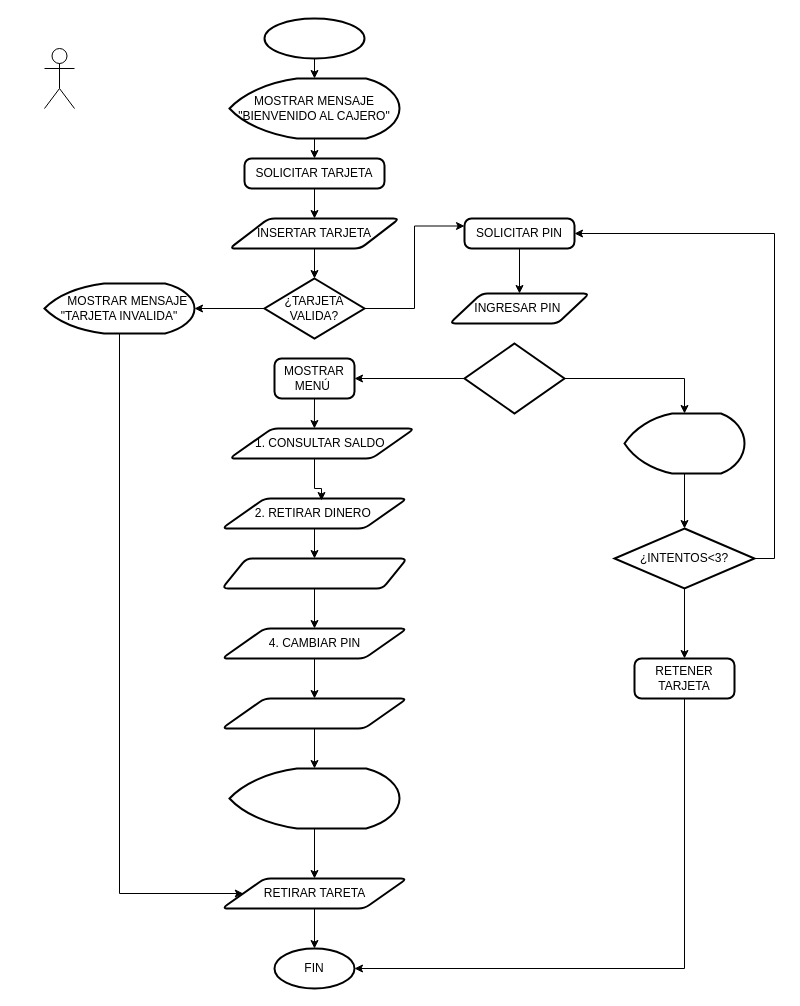
The diagram is 800 pixels wide and 1006 high, and some of its shapes have lost their labels. Each missing label, with the box of its shape:
3. DEPOSITAR DINERO: (220, 557, 408, 589)
5. SALIR: (220, 697, 408, 729)
INICIO: (263, 17, 365, 59)
MARIA LEGUIA: (44, 48, 74, 108)
MOSTRAR MENSAJE "GRACIAS POR USAR CAJERO": (228, 767, 400, 829)
MOSTRAR MENSAJE "PIN INCORRECTO": (623, 412, 745, 474)
¿PIN CORRECTO?: (463, 342, 565, 414)
